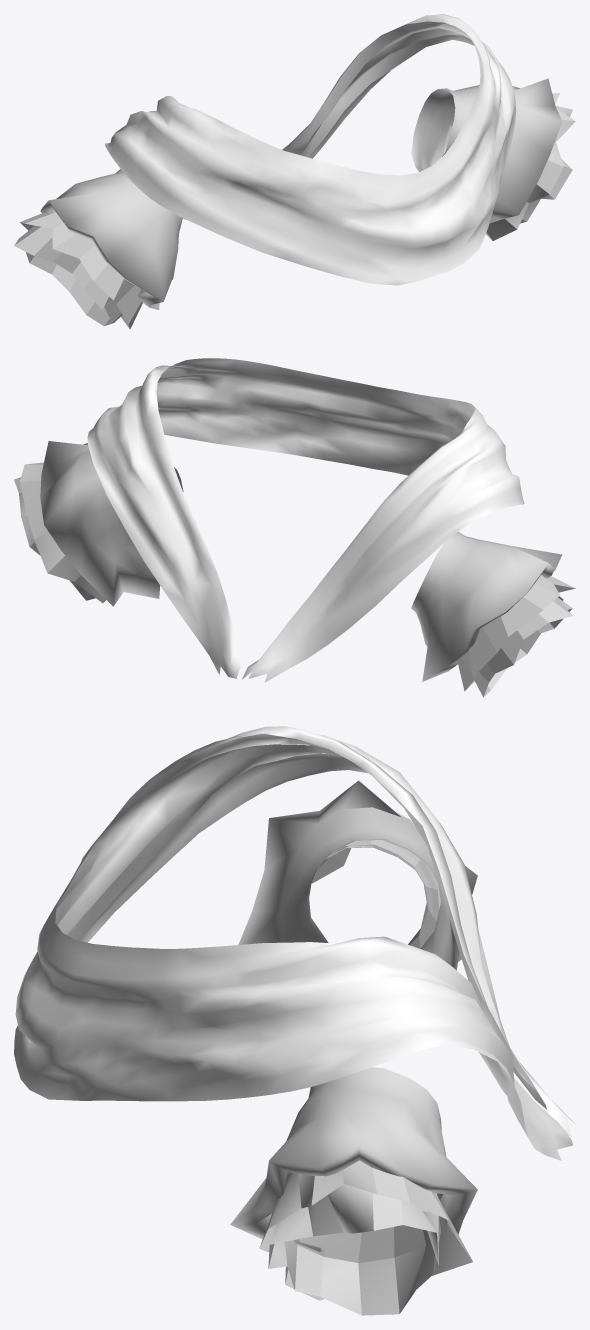
File: shoulder.glb
3 renders of one model, top to bottom at view 1: azimuth 30°, elevation 25°; view 2: azimuth 150°, elevation 25°; view 3: azimuth 270°, elevation 25°, orthographic. The views are drawn at different scales.
Visible parts, largest first — view 1: shoulder_2, shoulder_1; view 2: shoulder_2, shoulder_1; view 3: shoulder_2, shoulder_1.
Boxes of the visible parts, x1,y1,x2,y2 form: shoulder_2: [105, 14, 516, 285]; shoulder_1: [14, 78, 575, 329]; shoulder_2: [87, 358, 524, 682]; shoulder_1: [14, 441, 575, 697]; shoulder_2: [14, 726, 574, 1160]; shoulder_1: [230, 780, 477, 1315].
Bounding box in the file's own units: 0.5837 × 0.2284 × 0.3391.
Materials: 2 (1 with a texture image).
